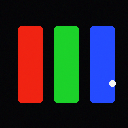0 point: (109, 80, 115, 86)
